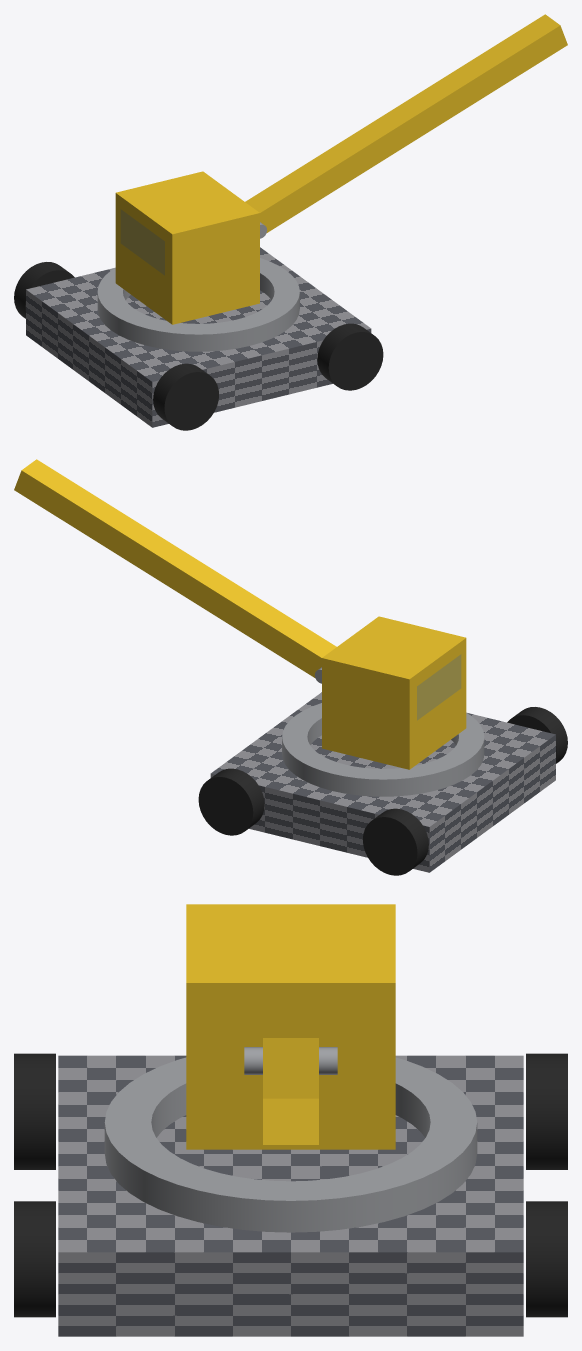
File: test_mesh_crane.glb
3 renders of one model, top to bottom at view 1: azimuth 30°, elevation 25°; view 2: azimuth 150°, elevation 25°; view 3: azimuth 270°, elevation 25°, orthographic. The views are drawn at different scales.
Parts seen in each view (by area): view 1: BASE, CAB, BOOM, SLEWING RING, WHEEL RL, WHEEL RR, WHEEL FR; view 2: BASE, CAB, BOOM, SLEWING RING, WHEEL FL, WHEEL FR, WHEEL RR; view 3: BASE, CAB, SLEWING RING, BOOM, WHEEL FL, WHEEL FR, WHEEL RL, WHEEL RR, BOOM PIN.
Boxes of the visible parts, x1,y1,x2,y2 form: BASE: (26, 247, 371, 427); CAB: (115, 171, 259, 324); BOOM: (245, 14, 567, 232); SLEWING RING: (97, 258, 299, 351); WHEEL RL: (317, 323, 383, 390); WHEEL RR: (153, 363, 219, 430); WHEEL FR: (14, 262, 74, 318); BASE: (210, 692, 555, 872); CAB: (322, 616, 466, 769); BOOM: (14, 459, 336, 677); SLEWING RING: (282, 703, 484, 796); WHEEL FL: (198, 768, 264, 835); WHEEL FR: (362, 808, 428, 875); WHEEL RR: (507, 707, 567, 763); BASE: (58, 1055, 523, 1336); CAB: (186, 904, 395, 1149); SLEWING RING: (104, 1057, 477, 1232); BOOM: (263, 1038, 318, 1144); WHEEL FL: (526, 1201, 567, 1317); WHEEL FR: (526, 1053, 567, 1169); WHEEL RL: (14, 1201, 55, 1317); WHEEL RR: (14, 1053, 55, 1169); BOOM PIN: (244, 1047, 337, 1074).
Bounding box in the file's own units: 4.3 × 2.17 × 2.38.
Materials: 5 (1 with a texture image).
